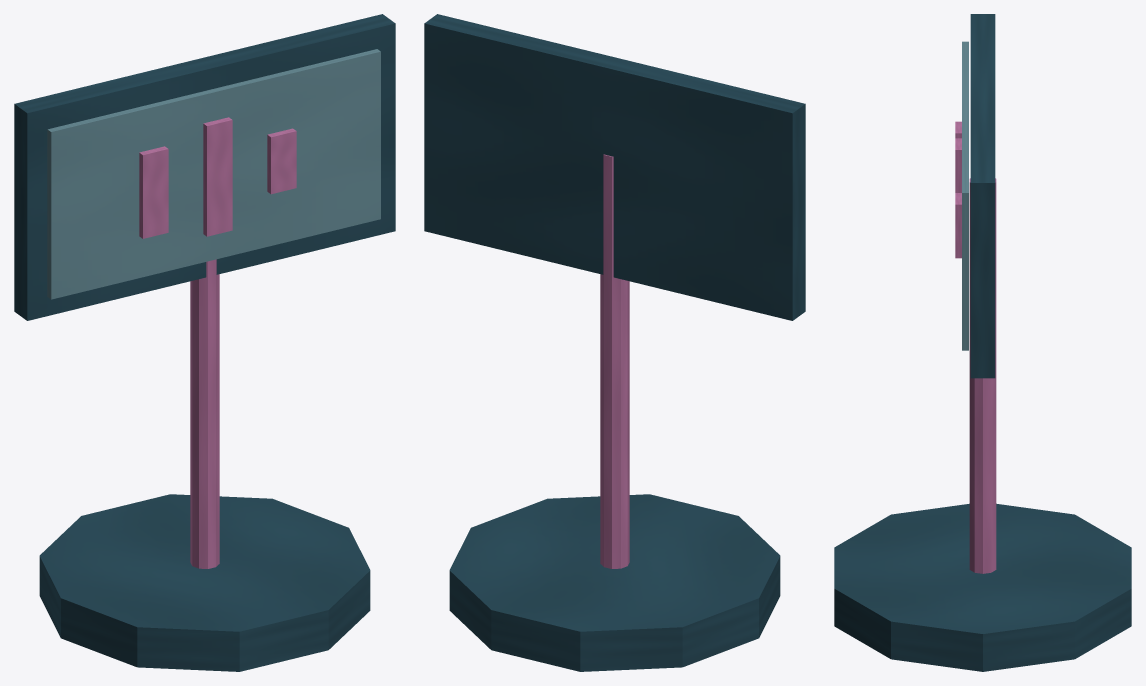
Rendered from atlas100-s061-a11.glb.
3 renders of one model, left to right at view 1: azimuth 30°, elevation 25°; view 2: azimuth 150°, elevation 25°; view 3: azimuth 270°, elevation 25°, orthographic. The views are drawn at different scales.
Parts seen in each view (by area): view 1: atlas100-s061-a11:part-003, atlas100-s061-a11:part-000, atlas100-s061-a11:part-002, atlas100-s061-a11:part-001, atlas100-s061-a11:part-005, atlas100-s061-a11:part-004, atlas100-s061-a11:part-006; view 2: atlas100-s061-a11:part-002, atlas100-s061-a11:part-000, atlas100-s061-a11:part-001; view 3: atlas100-s061-a11:part-000, atlas100-s061-a11:part-002, atlas100-s061-a11:part-001, atlas100-s061-a11:part-003, atlas100-s061-a11:part-006.
Part boxes in pixels (x1=…): atlas100-s061-a11:part-003: x1=47, y1=49, x2=380, y2=299; atlas100-s061-a11:part-000: x1=39, y1=494, x2=370, y2=671; atlas100-s061-a11:part-002: x1=14, y1=14, x2=395, y2=320; atlas100-s061-a11:part-001: x1=190, y1=259, x2=219, y2=568; atlas100-s061-a11:part-005: x1=203, y1=117, x2=232, y2=236; atlas100-s061-a11:part-004: x1=139, y1=146, x2=168, y2=238; atlas100-s061-a11:part-006: x1=267, y1=128, x2=296, y2=194; atlas100-s061-a11:part-002: x1=424, y1=14, x2=805, y2=320; atlas100-s061-a11:part-000: x1=449, y1=494, x2=780, y2=671; atlas100-s061-a11:part-001: x1=600, y1=154, x2=629, y2=568; atlas100-s061-a11:part-000: x1=834, y1=503, x2=1131, y2=671; atlas100-s061-a11:part-002: x1=970, y1=14, x2=995, y2=378; atlas100-s061-a11:part-001: x1=969, y1=178, x2=996, y2=573; atlas100-s061-a11:part-003: x1=962, y1=41, x2=968, y2=350; atlas100-s061-a11:part-006: x1=955, y1=193, x2=961, y2=258.
Bounding box in the file's own units: 1.15 × 1.61 × 0.856.
3 materials, 3 textured.
